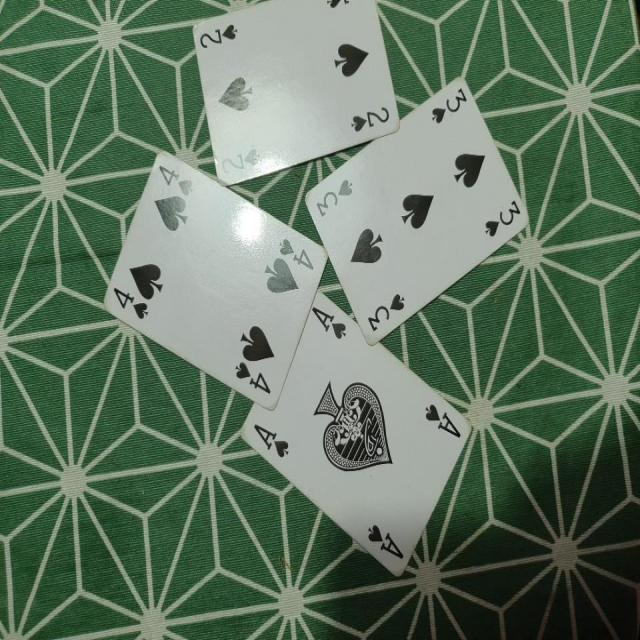2 Spades: (165, 6, 408, 193)
3 Spades: (301, 71, 538, 342)
4 Spades: (87, 140, 329, 410)
A Spades: (231, 292, 478, 586)
